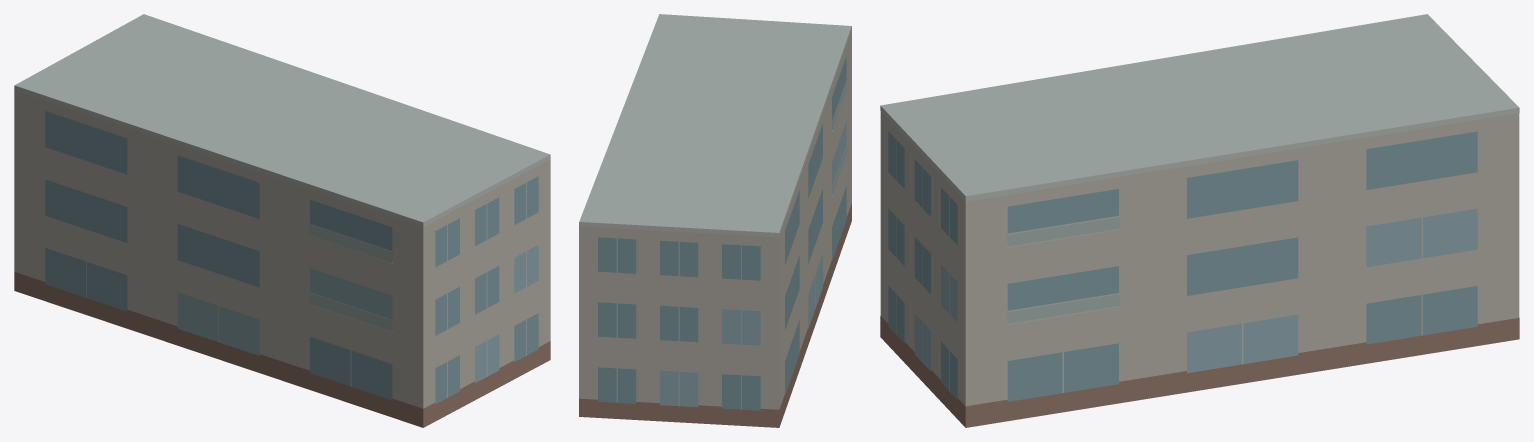
File: survey-upis-32962893.glb
The picture shows the model from 3 angles, left to right: view 1: azimuth 30°, elevation 25°; view 2: azimuth 150°, elevation 25°; view 3: azimuth 270°, elevation 25°; orthographic projection. The views are drawn at different scales.
Parts seen in each view (by area): view 1: survey-upis-32962893.tmp; view 2: survey-upis-32962893.tmp; view 3: survey-upis-32962893.tmp.
Part boxes in pixels (bbox=[...]): survey-upis-32962893.tmp: bbox=[14, 14, 550, 427]; survey-upis-32962893.tmp: bbox=[579, 14, 851, 427]; survey-upis-32962893.tmp: bbox=[880, 14, 1519, 427].
Size of the model in its own units: 18.23 by 10.8 by 27.01.
